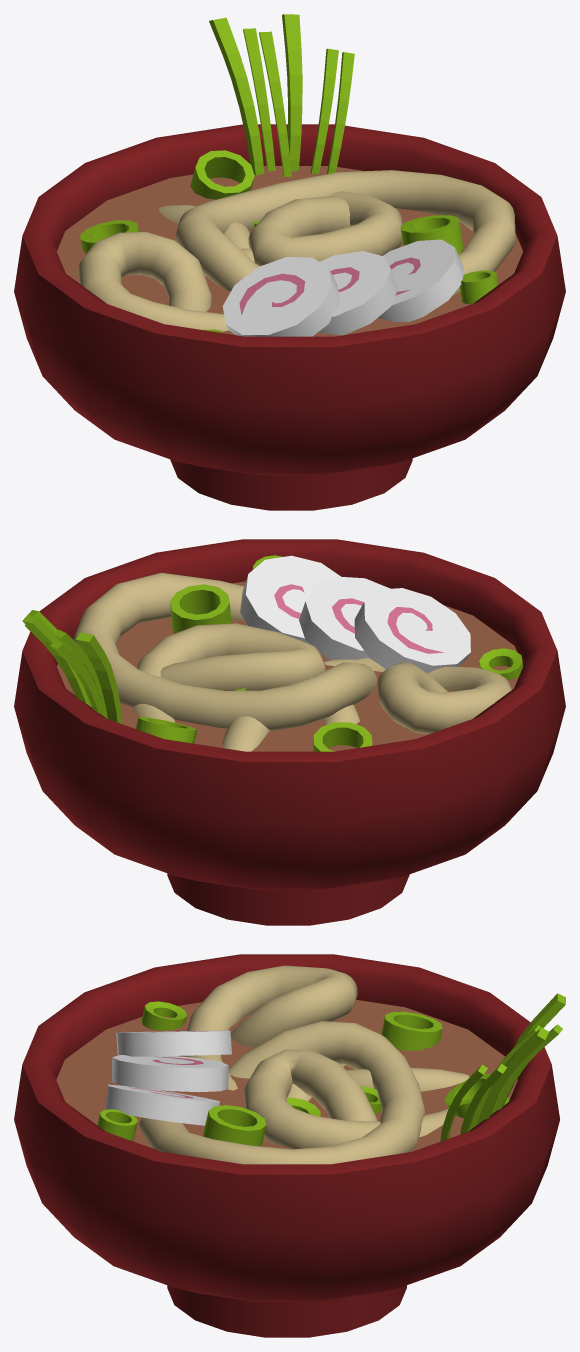
File: udon.glb
3 views of the same model, one above another, from view 1: azimuth 30°, elevation 25°; view 2: azimuth 150°, elevation 25°; view 3: azimuth 270°, elevation 25° (orthographic).
Parts seen in each view (by area): view 1: Food_Udon; view 2: Food_Udon; view 3: Food_Udon.
Part boxes in pixels (left/top/right/bottom): Food_Udon: left=14, top=14, right=565, bottom=510; Food_Udon: left=14, top=539, right=565, bottom=925; Food_Udon: left=14, top=954, right=565, bottom=1337.
Size of the model in its own units: 0.973 by 0.6441 by 0.9986.
1 material, 1 textured.
